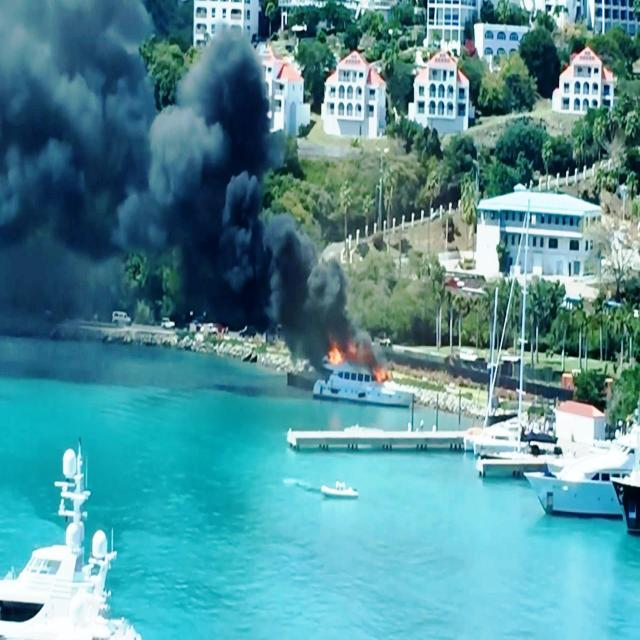Fire: (322, 337, 393, 392)
Smoke: (0, 0, 139, 285), (151, 34, 277, 298), (272, 245, 342, 353)
